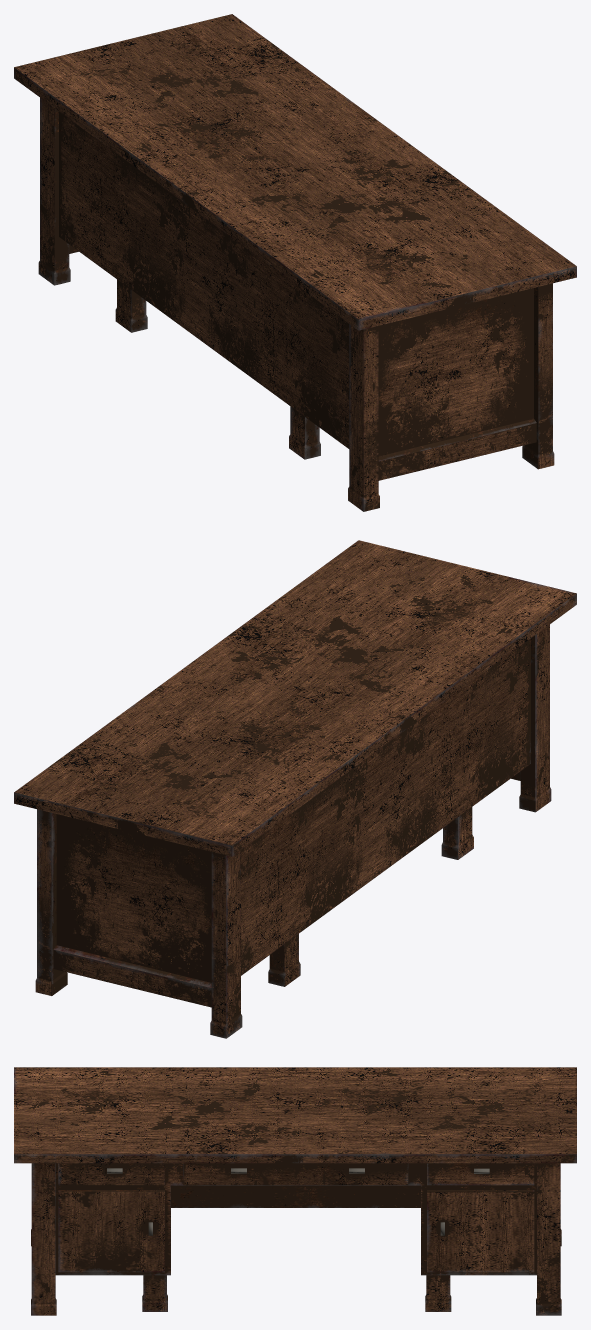
File: LongTable.fbx
The picture shows the model from 3 angles, top to bottom: view 1: azimuth 30°, elevation 25°; view 2: azimuth 150°, elevation 25°; view 3: azimuth 270°, elevation 25°; orthographic projection. The views are drawn at different scales.
Parts seen in each view (by area): view 1: S_Desk; view 2: S_Desk; view 3: S_Desk.
Boxes of the visible parts, x1,y1,x2,y2 form: S_Desk: [14, 14, 576, 511]; S_Desk: [14, 540, 576, 1038]; S_Desk: [14, 1067, 576, 1315].
Bounding box in the file's own units: 100 × 89.55 × 275.
